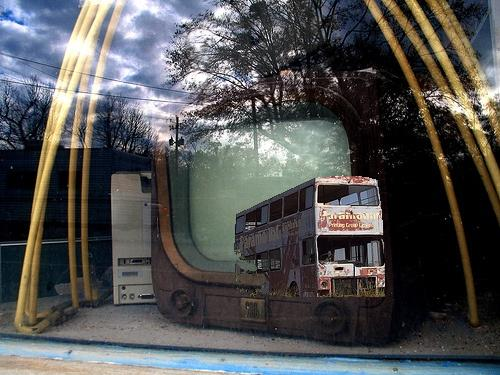tampered: (235, 176, 385, 297)
